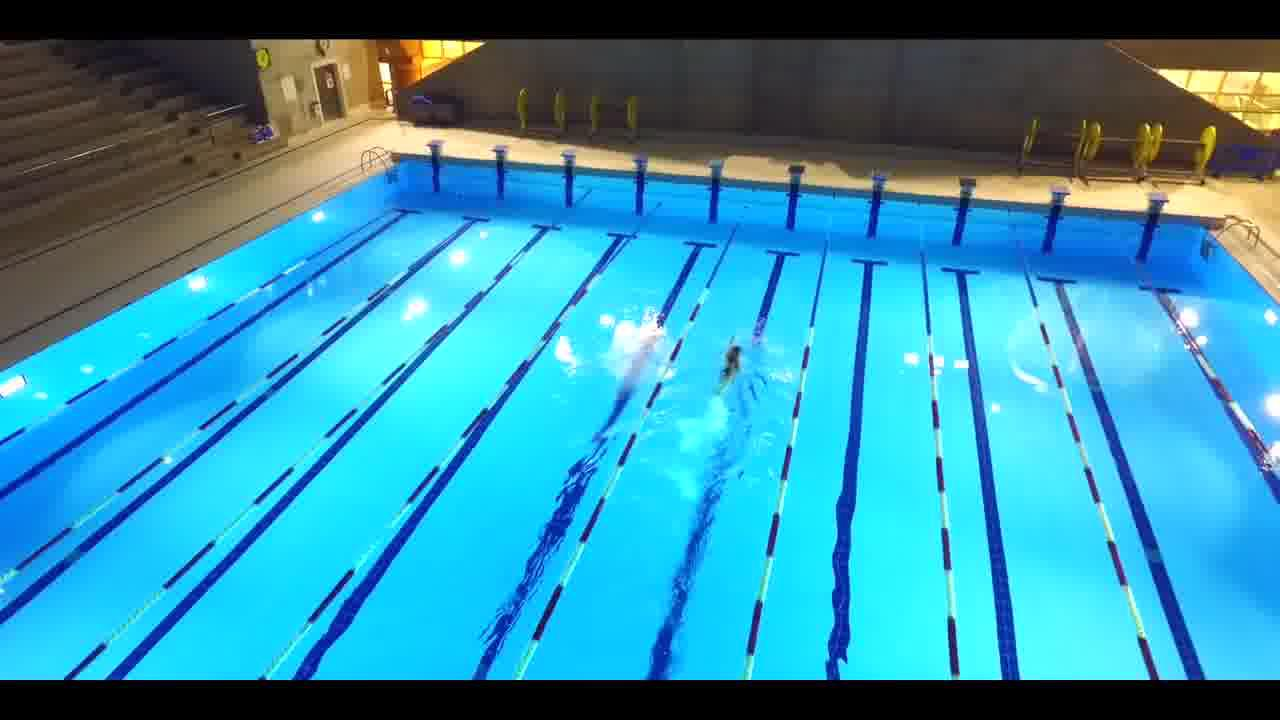human: (716, 337, 753, 372)
